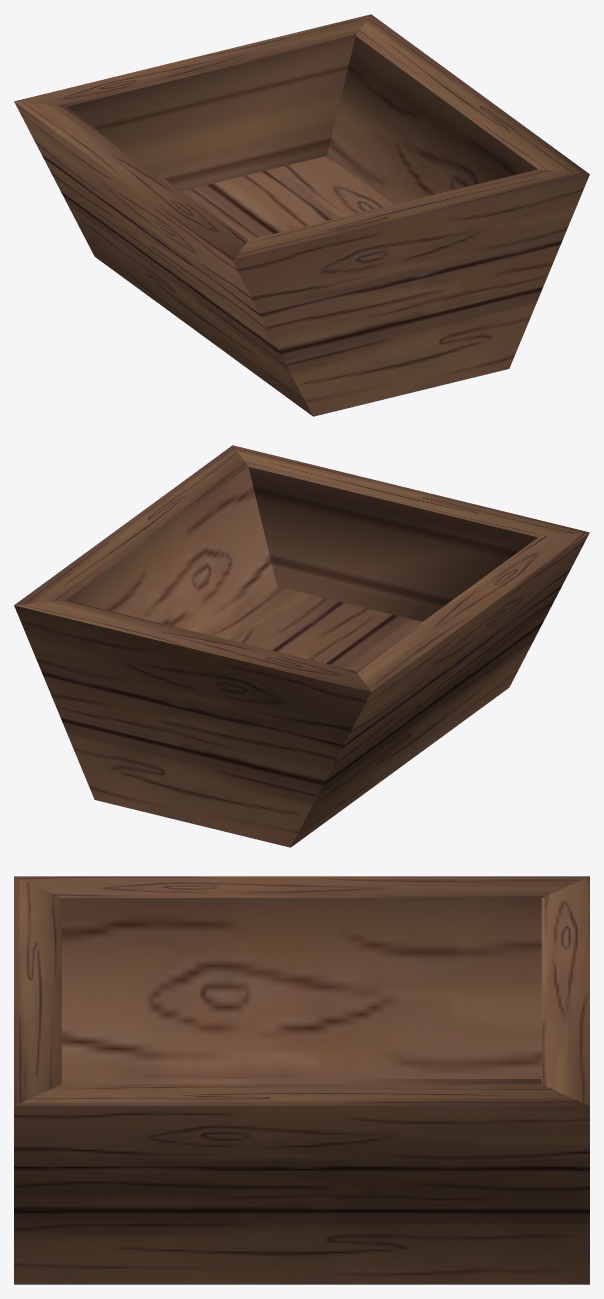
File: ChickenFoodEmpty.glb
3 renders of one model, top to bottom at view 1: azimuth 30°, elevation 25°; view 2: azimuth 150°, elevation 25°; view 3: azimuth 270°, elevation 25°, orthographic. The views are drawn at different scales.
Visible parts, largest first — view 1: ChickenFoodEmpty; view 2: ChickenFoodEmpty; view 3: ChickenFoodEmpty.
Boxes of the visible parts, x1,y1,x2,y2 form: ChickenFoodEmpty: (14, 14, 589, 416); ChickenFoodEmpty: (14, 445, 589, 847); ChickenFoodEmpty: (14, 876, 589, 1284).
Size of what is drawn, in the model's own units: 1.32 by 0.6196 by 1.4.
1 material, 1 textured.
